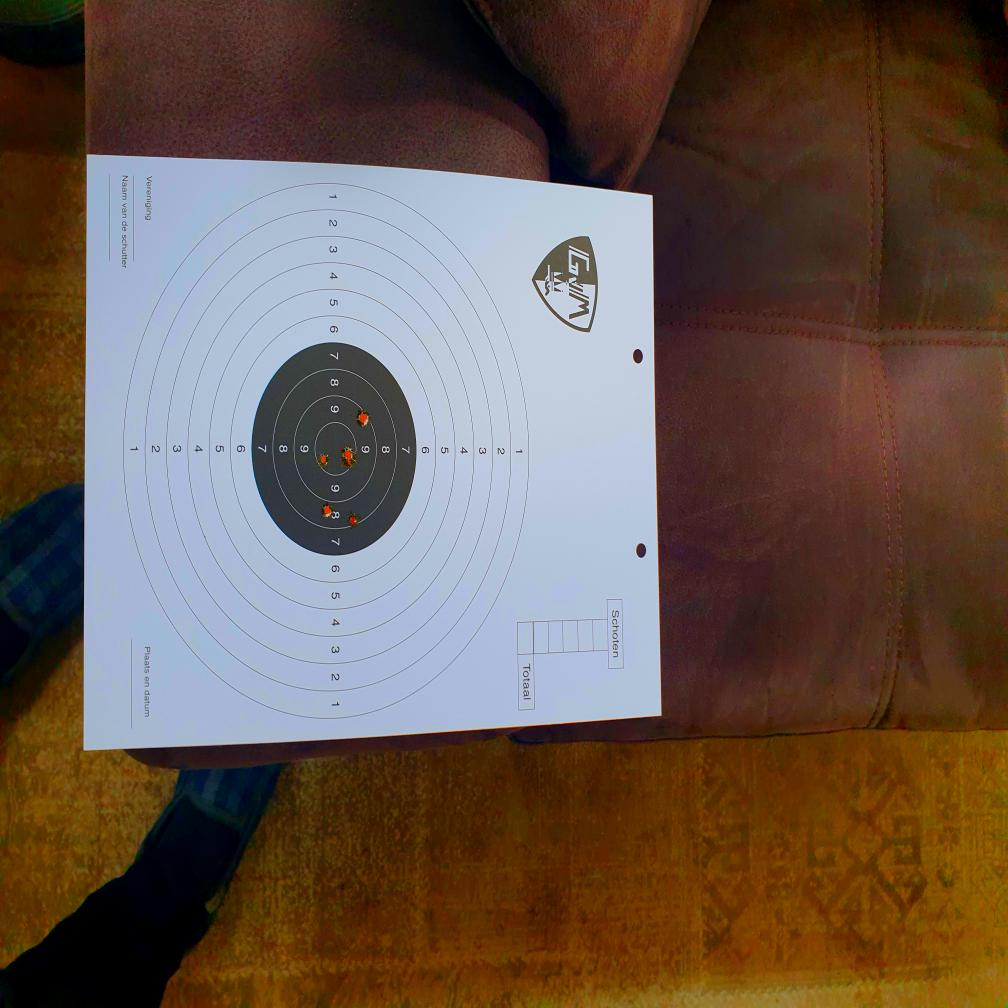10: (341, 446, 357, 470), (317, 450, 330, 470)
8: (347, 511, 361, 529), (321, 501, 334, 520)
9: (356, 410, 371, 429)
Target: (123, 183, 530, 721)
black_contour: (252, 343, 417, 557)
